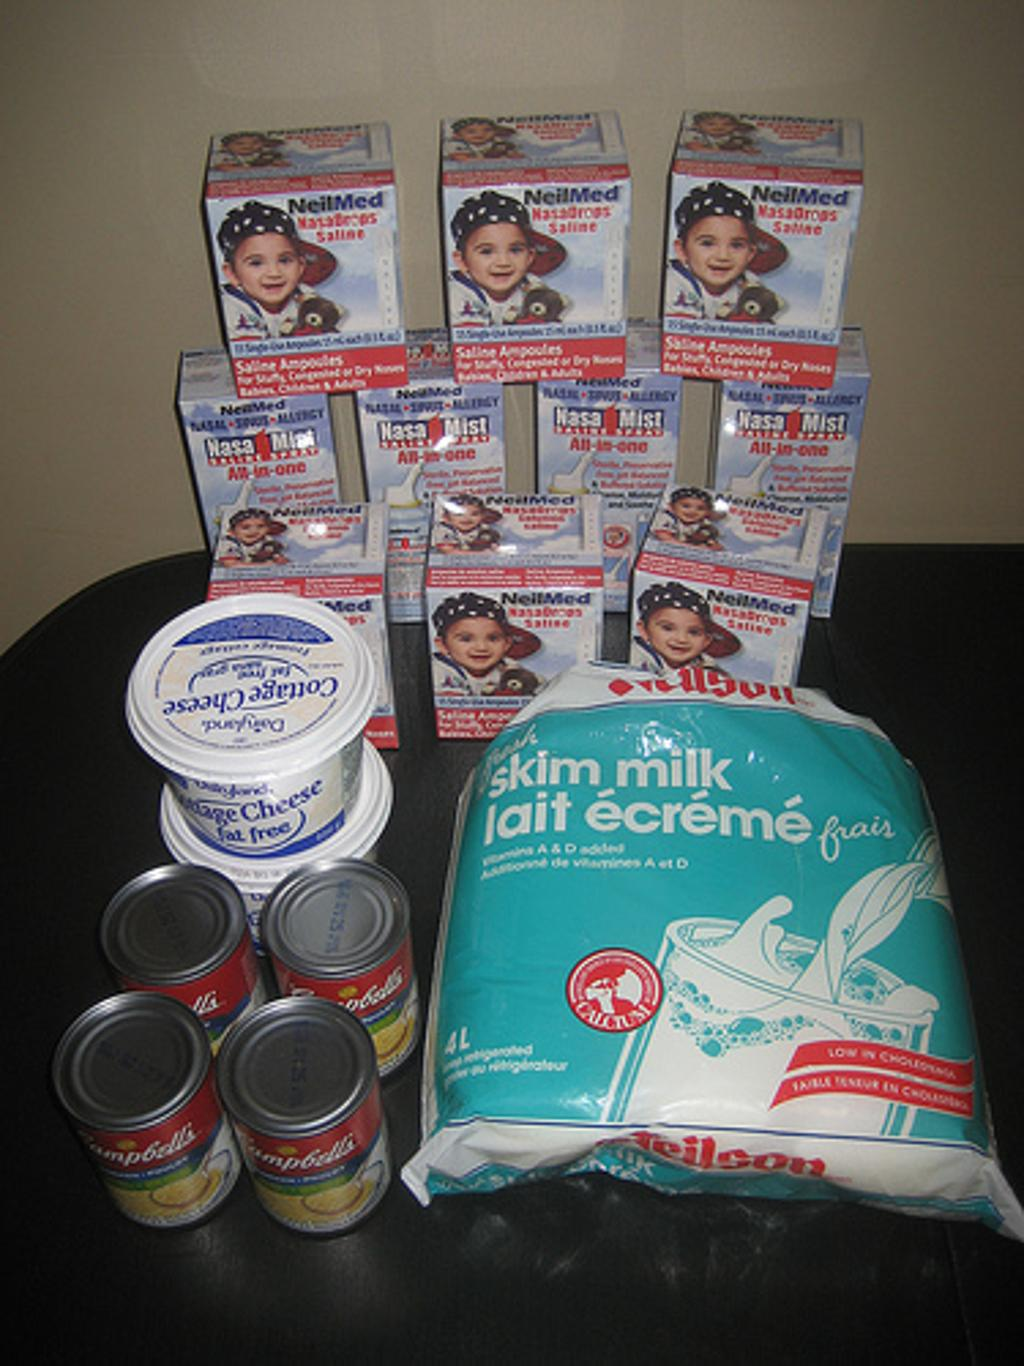face: (463, 222, 527, 292), (685, 216, 750, 284), (236, 242, 296, 305), (446, 616, 504, 673), (653, 610, 704, 663), (450, 505, 481, 531), (236, 519, 266, 544), (677, 499, 706, 522), (229, 137, 261, 156), (461, 125, 494, 144), (702, 117, 736, 136)
